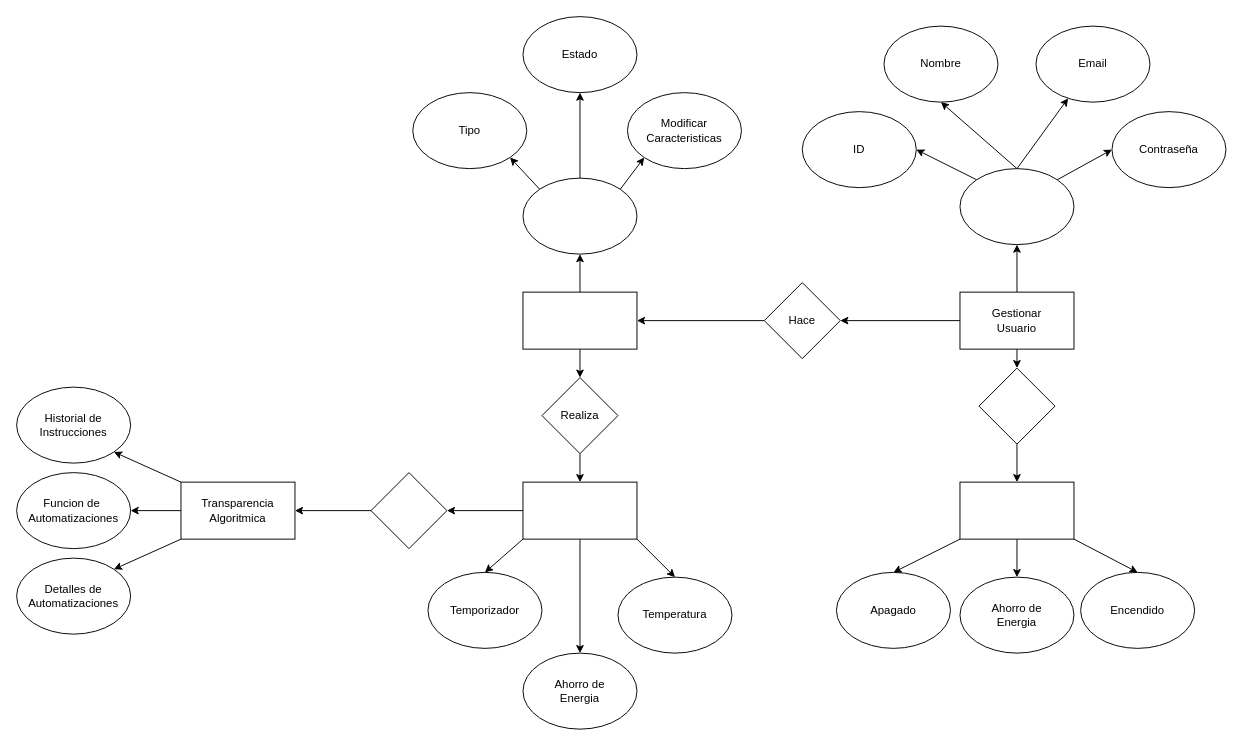
Some shapes in this 1243 by 746 pixel diagram are drawn without their labels. The centre of each missing label's shape, as x and y in pixels:
Automatización: point (579, 510)
Controlar Estado: point (1016, 510)
Debe Tener: point (408, 510)
Gestion de Dispositivos: point (579, 320)
Puede: point (1016, 405)
Registrar Dispositivos: point (579, 215)
Registrar Usuario: point (1016, 206)
